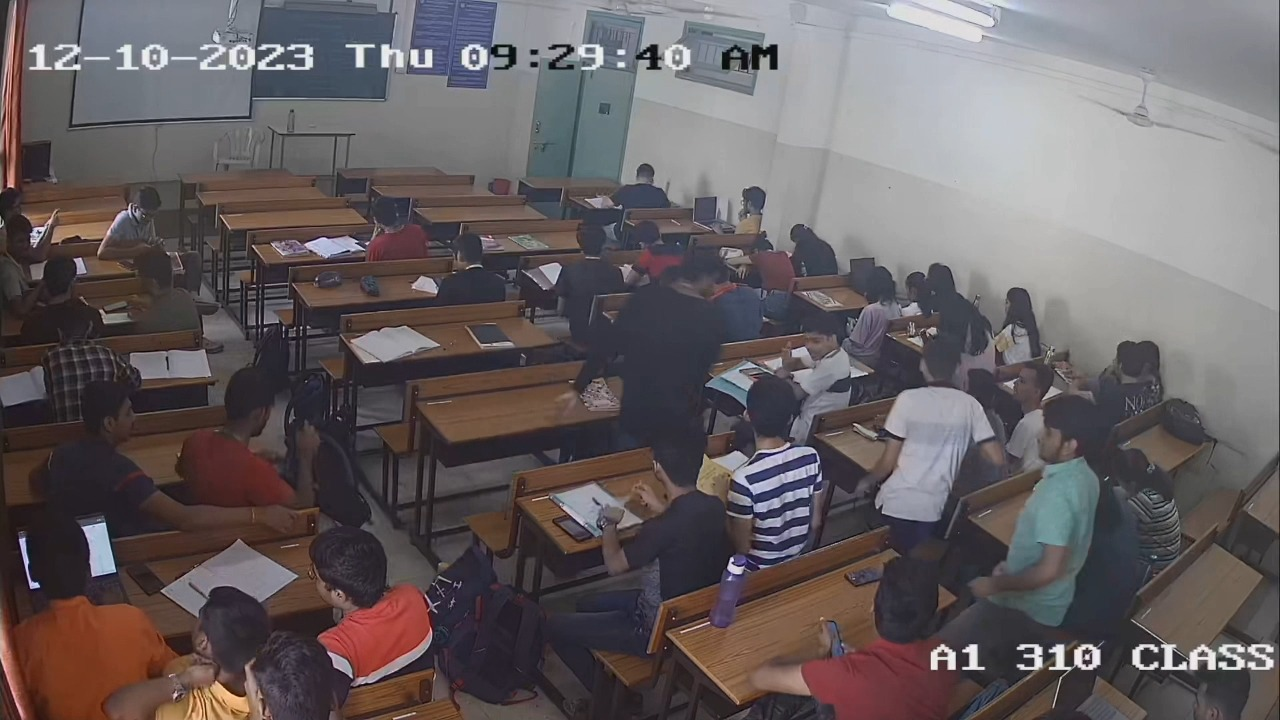cell-phones: (124, 561, 168, 597), (816, 618, 846, 663), (842, 562, 889, 589), (552, 514, 593, 543), (102, 299, 128, 314)
person: (130, 587, 272, 720), (847, 554, 960, 720), (625, 426, 728, 586), (124, 249, 202, 331)
